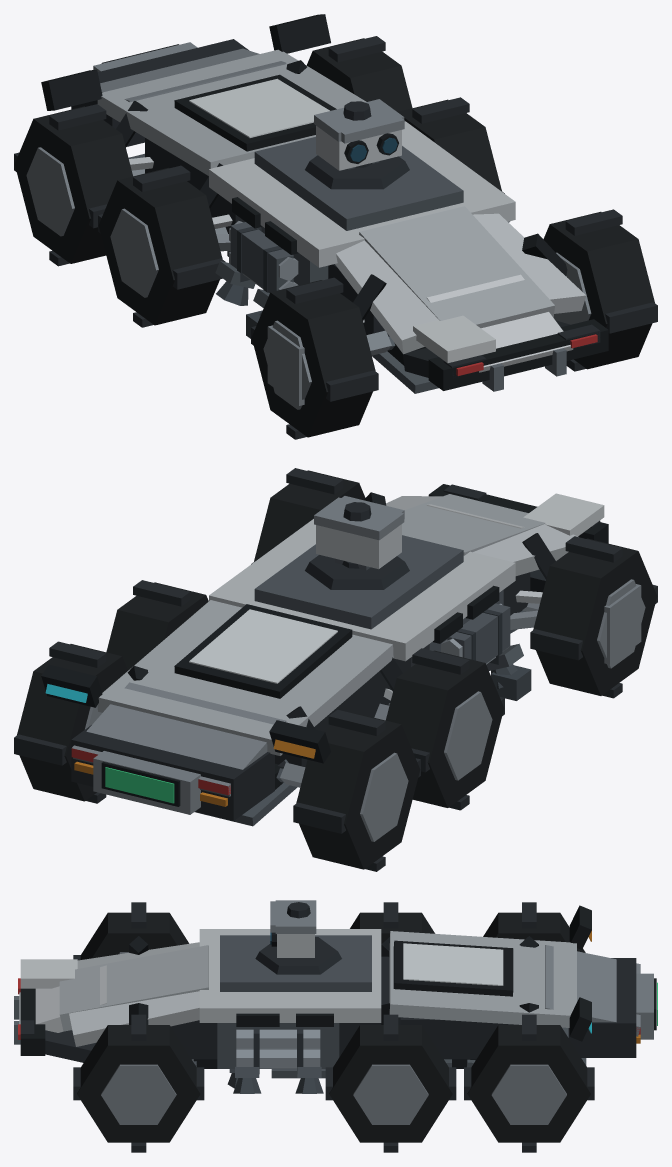
The model's file is r47xs_recon_rover_d0_lod2.meshopt.glb.
The picture shows the model from 3 angles, top to bottom: view 1: azimuth 30°, elevation 25°; view 2: azimuth 150°, elevation 25°; view 3: azimuth 270°, elevation 25°; orthographic projection. The views are drawn at different scales.
Visible parts, largest first — view 1: ROVER_STATIC_BODY; view 2: ROVER_STATIC_BODY; view 3: ROVER_STATIC_BODY.
Part boxes in pixels (left/top/right/bottom): ROVER_STATIC_BODY: left=14, top=14, right=657, bottom=439; ROVER_STATIC_BODY: left=14, top=468, right=657, bottom=871; ROVER_STATIC_BODY: left=14, top=900, right=657, bottom=1152.
Size of the model in its own units: 2.38 by 1.47 by 4.75.
